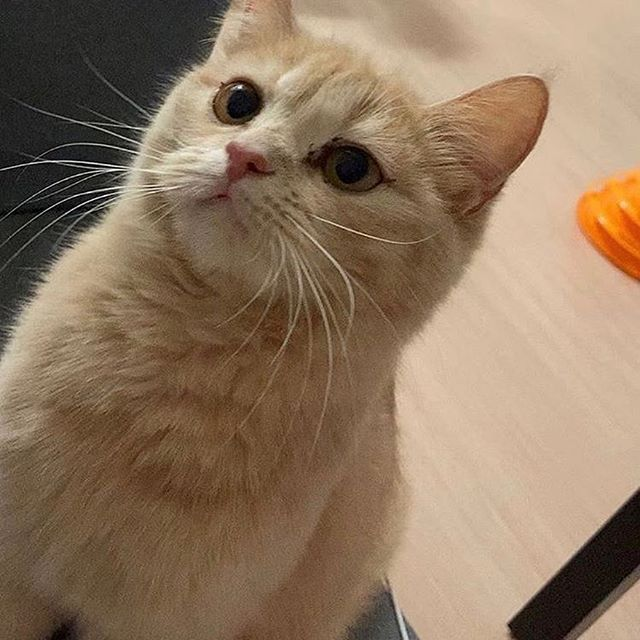cat: (124, 1, 557, 353)
